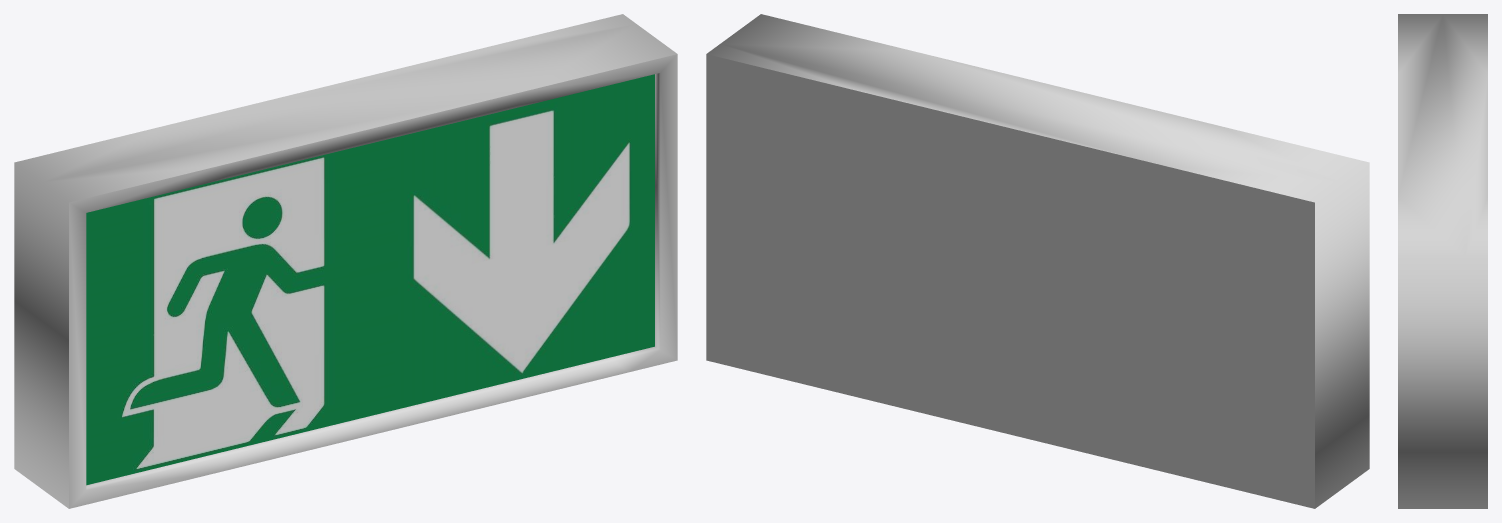
The model's file is exitsign.glb.
The picture shows the model from 3 angles, left to right: view 1: azimuth 30°, elevation 25°; view 2: azimuth 150°, elevation 25°; view 3: azimuth 270°, elevation 25°; orthographic projection. The views are drawn at different scales.
Visible parts, largest first — view 1: Exit; view 2: Exit; view 3: Exit.
Part boxes in pixels (box(x1,y1,x2,y2)): Exit: box(14, 14, 677, 508); Exit: box(706, 14, 1369, 508); Exit: box(1398, 14, 1487, 508).
Size of the model in its own units: 1.71 by 0.8643 by 0.2664.
5 materials, 1 textured.
